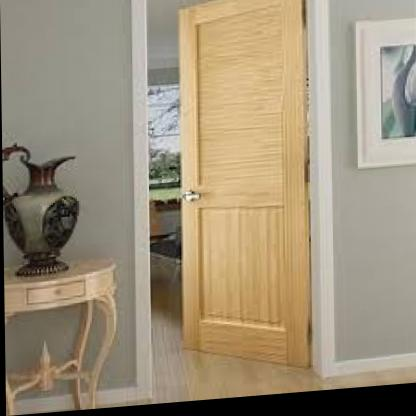door: (179, 0, 309, 373)
